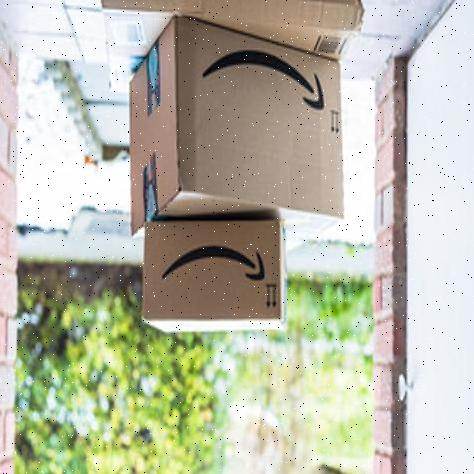Amazon: (127, 14, 349, 254), (102, 0, 368, 95), (141, 215, 285, 336)
